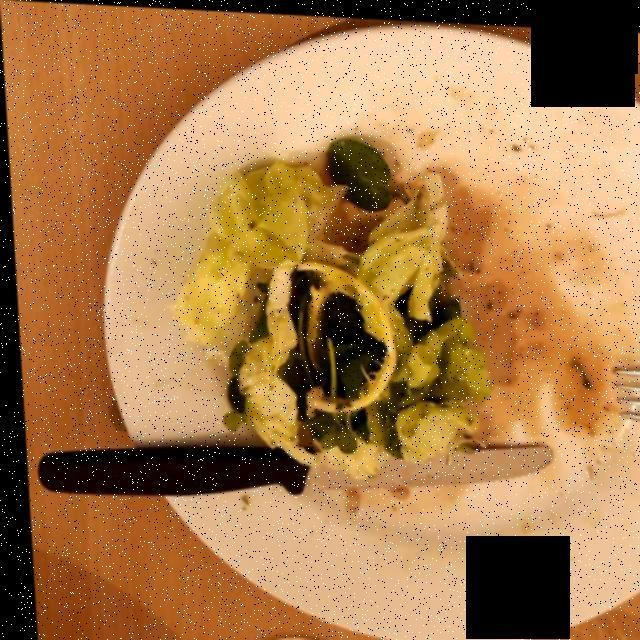salad: (182, 142, 497, 487)
